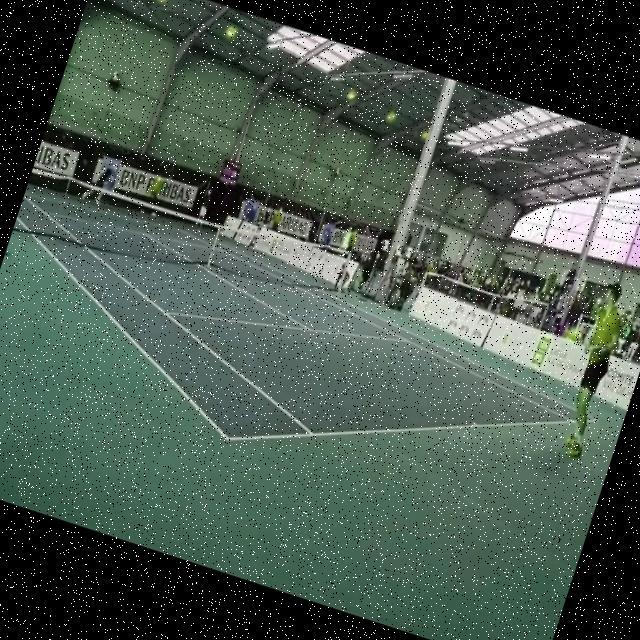court: (0, 179, 614, 548)
net: (12, 150, 354, 333)
player: (548, 276, 638, 461)
